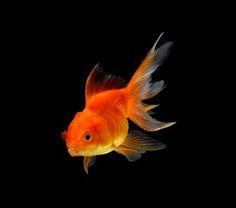goldfish: (54, 40, 201, 168)
